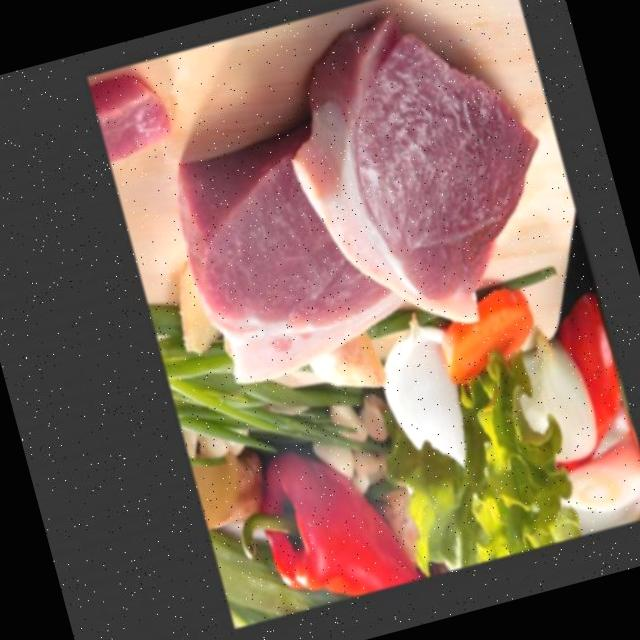pork: (279, 0, 565, 352), (152, 114, 422, 398), (87, 70, 172, 165)
